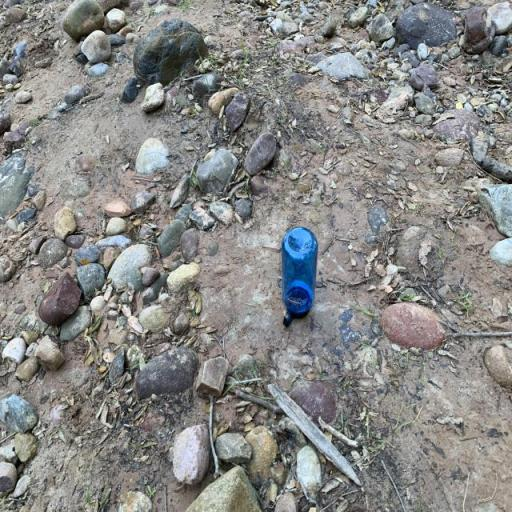bottle: (282, 226, 318, 328)
